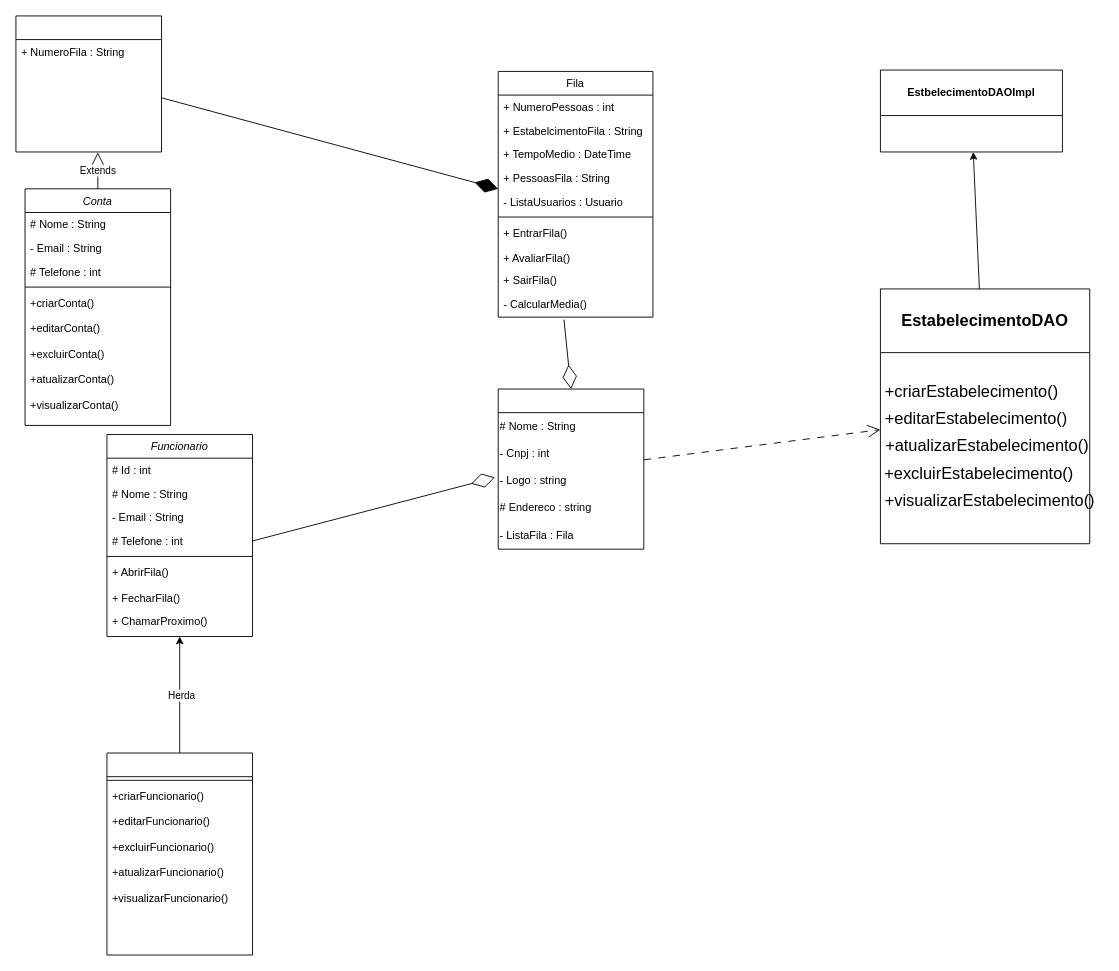
This 1119x971 diagram has some shape labels left out. Here are the shapes that lost their labels. From the top down, the box of each, then its label:
(15, 15, 162, 152): Usuario
(497, 388, 644, 549): Estabelecimento
(106, 752, 253, 955): Gerente
